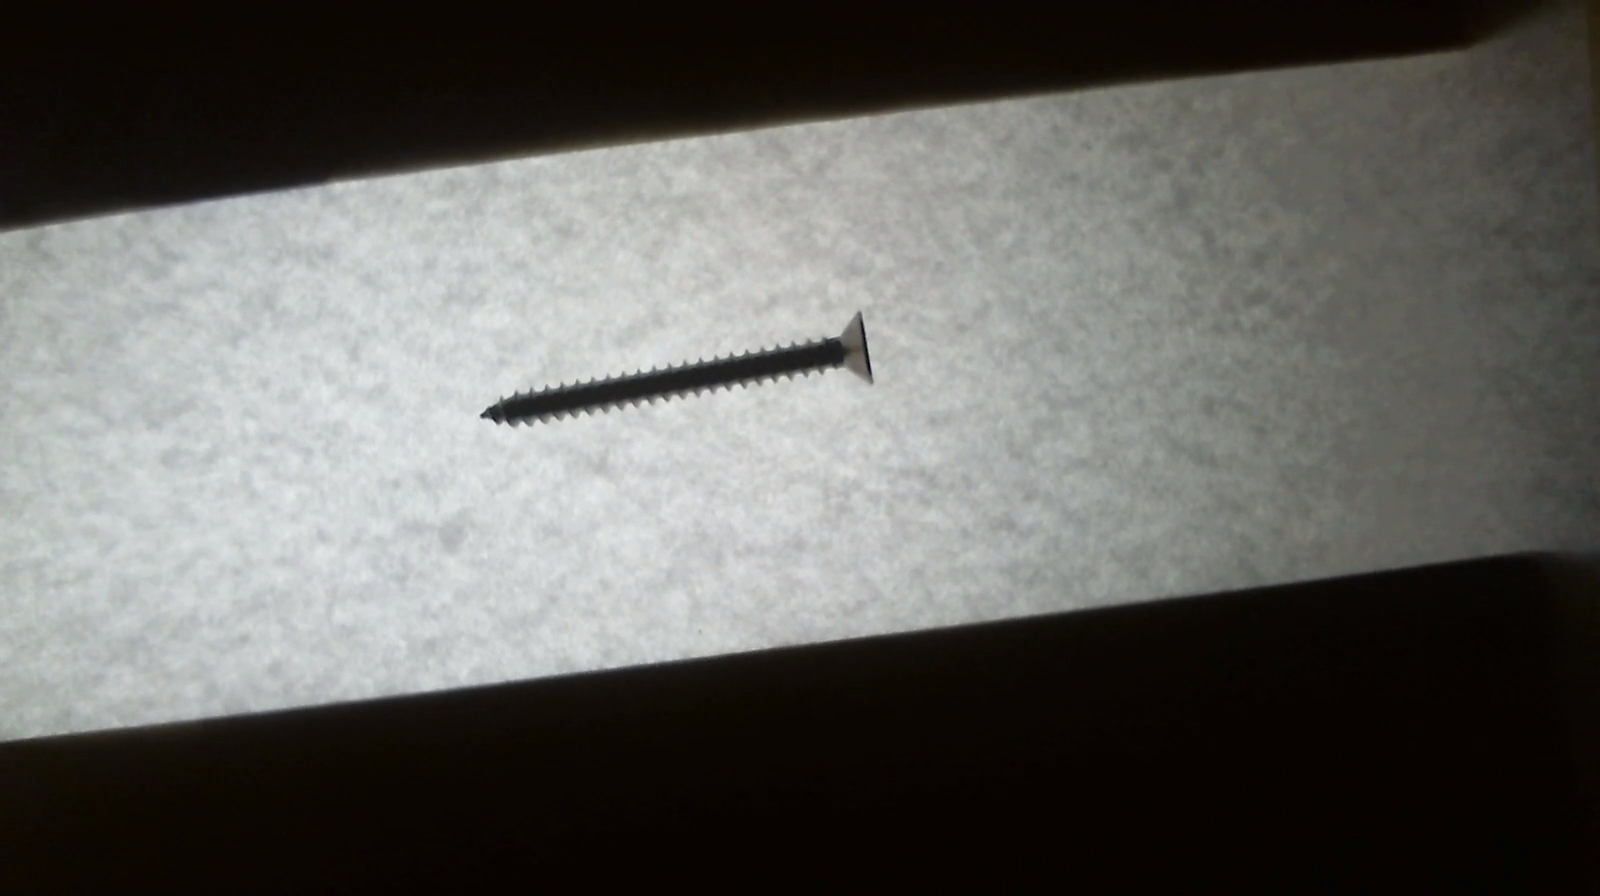S002: (474, 307, 884, 436)
